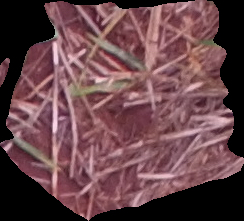soil: (1, 1, 243, 221)
